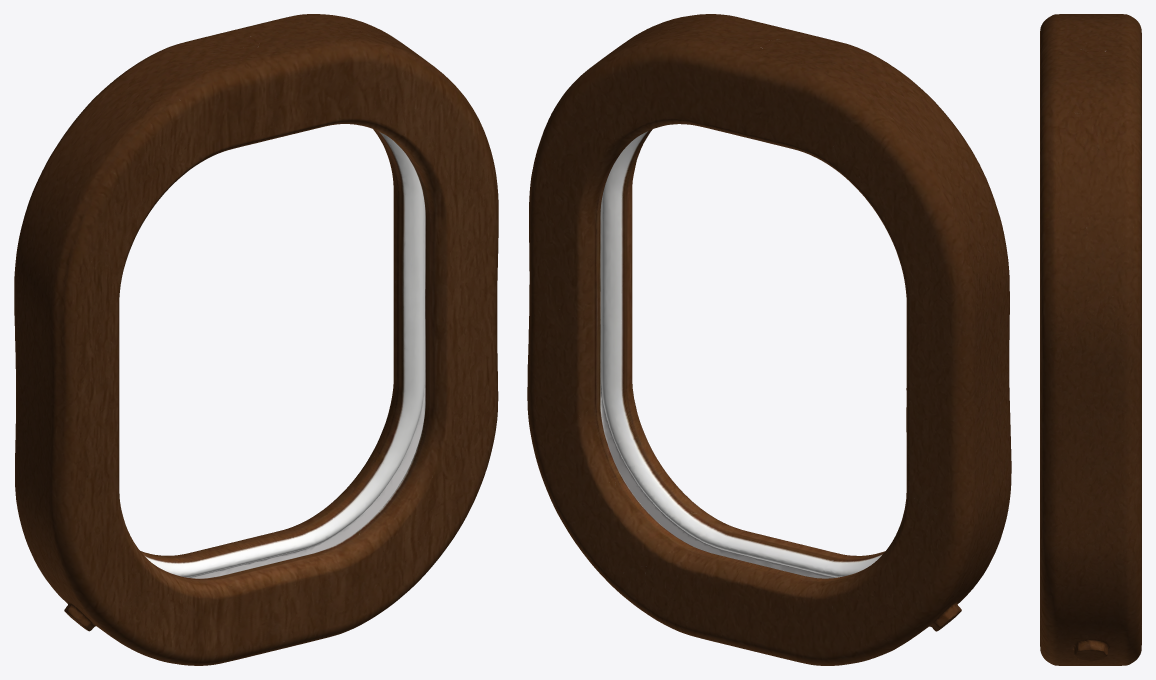
The model's file is Meshy_AI_Wooden_Halo_Lamp_1108184236_texture.glb.
The picture shows the model from 3 angles, left to right: view 1: azimuth 30°, elevation 25°; view 2: azimuth 150°, elevation 25°; view 3: azimuth 270°, elevation 25°; orthographic projection. The views are drawn at different scales.
Size of the model in its own units: 1.47 by 1.86 by 0.2979.
1 material, 1 textured.
